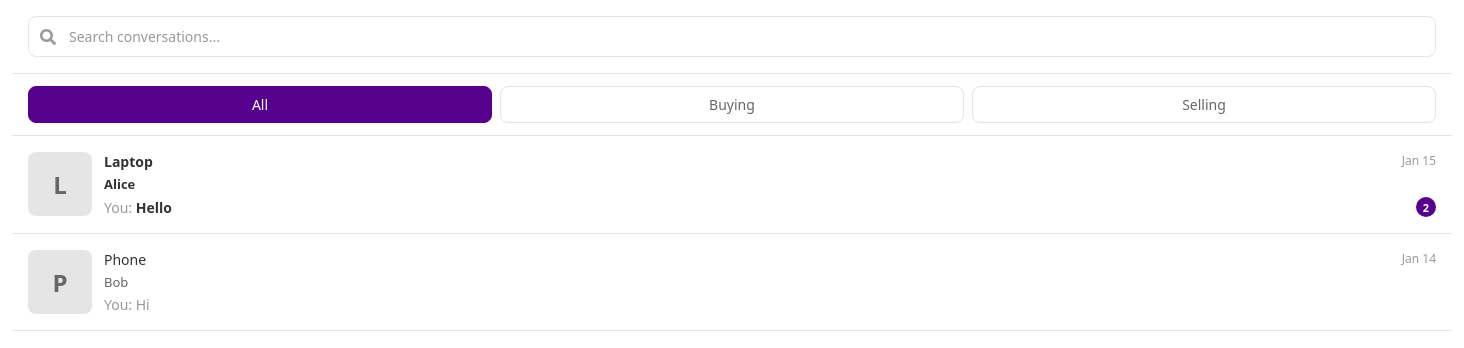
ConversationList › Filter functionality › filters by selling type
Click the button "Selling": (1204, 104) [972,86,1436,123]
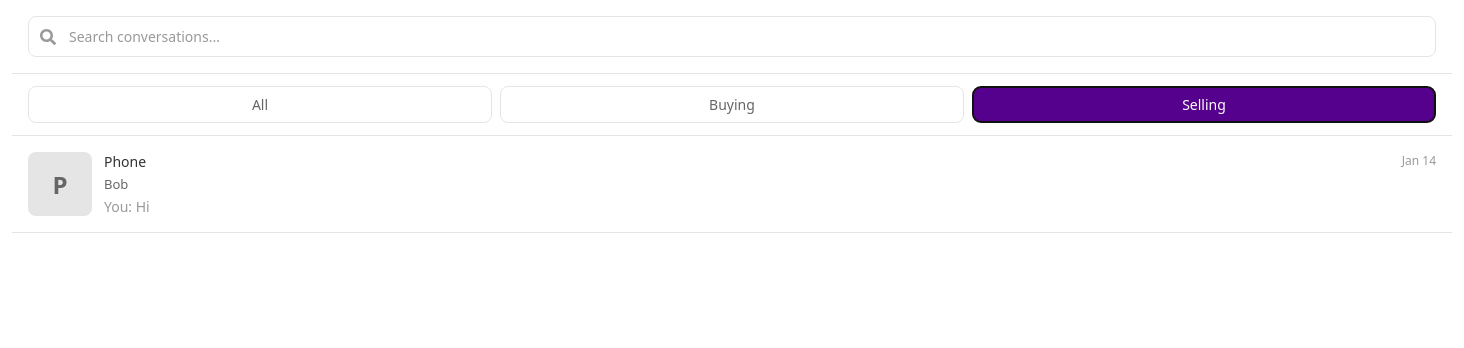
Check: the heading "Phone" is shown, box [104,152,146,171]
Check: the button "Laptop" is gone
